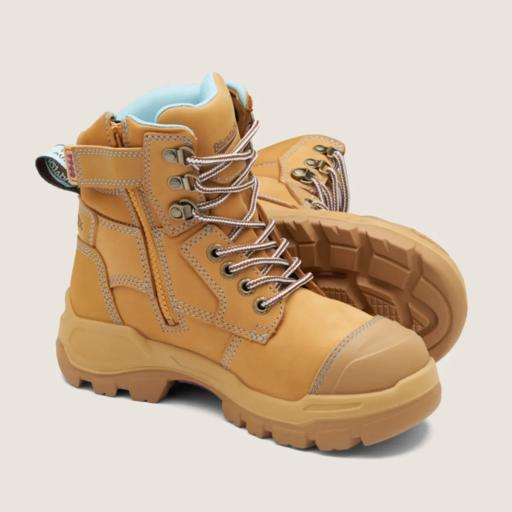safety_boots: (51, 83, 467, 460)
